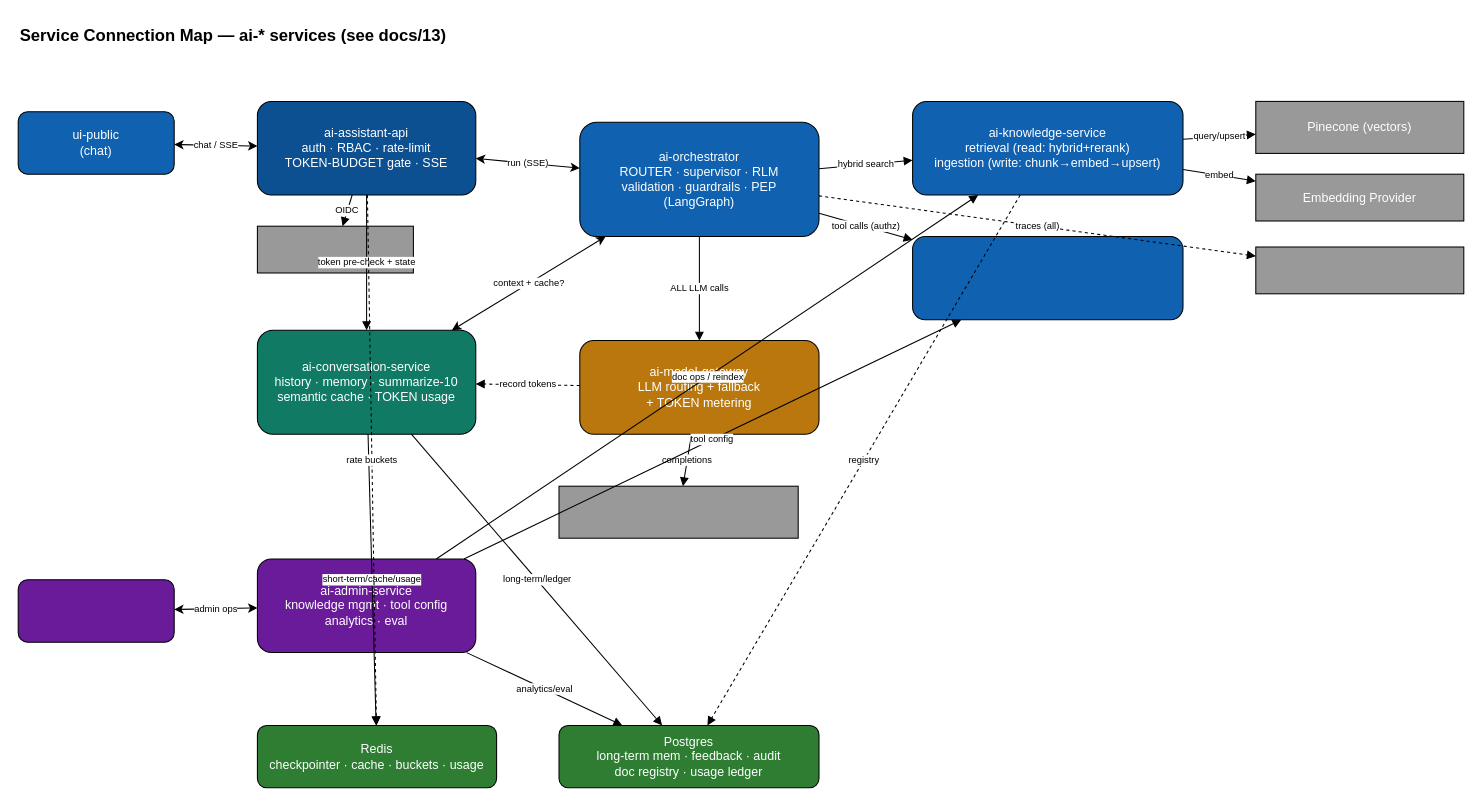
Some shapes in this 1482 by 806 pixel diagram are drawn without their labels. The shapes that lost their labels are listed below. From the top down, each one's box as (x1, y1, x2, y2) in pixels, then its label:
(256, 225, 413, 273): Keycloak (OIDC)
(912, 236, 1183, 320): ai-tool-service tool registry + execution (MCP + external REST/DB)
(1255, 246, 1464, 294): LangSmith (traces)
(558, 485, 798, 538): LLM Provider Claude / OpenAI
(17, 579, 174, 642): ui-admin (console)
